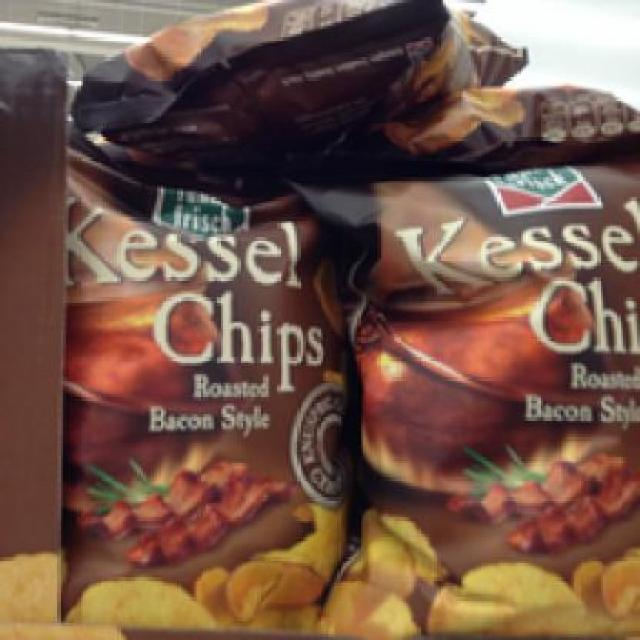Chips: (328, 165, 634, 638), (56, 180, 350, 623)
